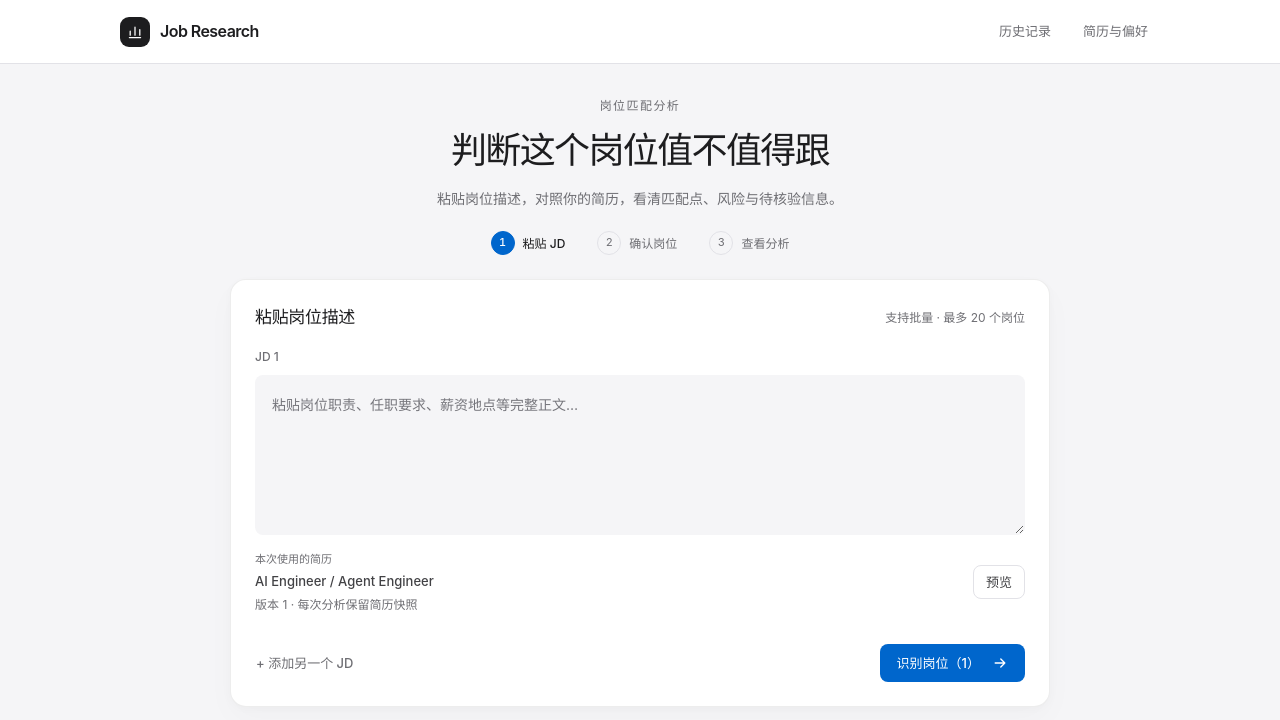
Test: business pages › previews an existing resume as Markdown and edits preview fields on demand
Click the button "预览".
click(999, 582)  # box [973,565,1025,599]
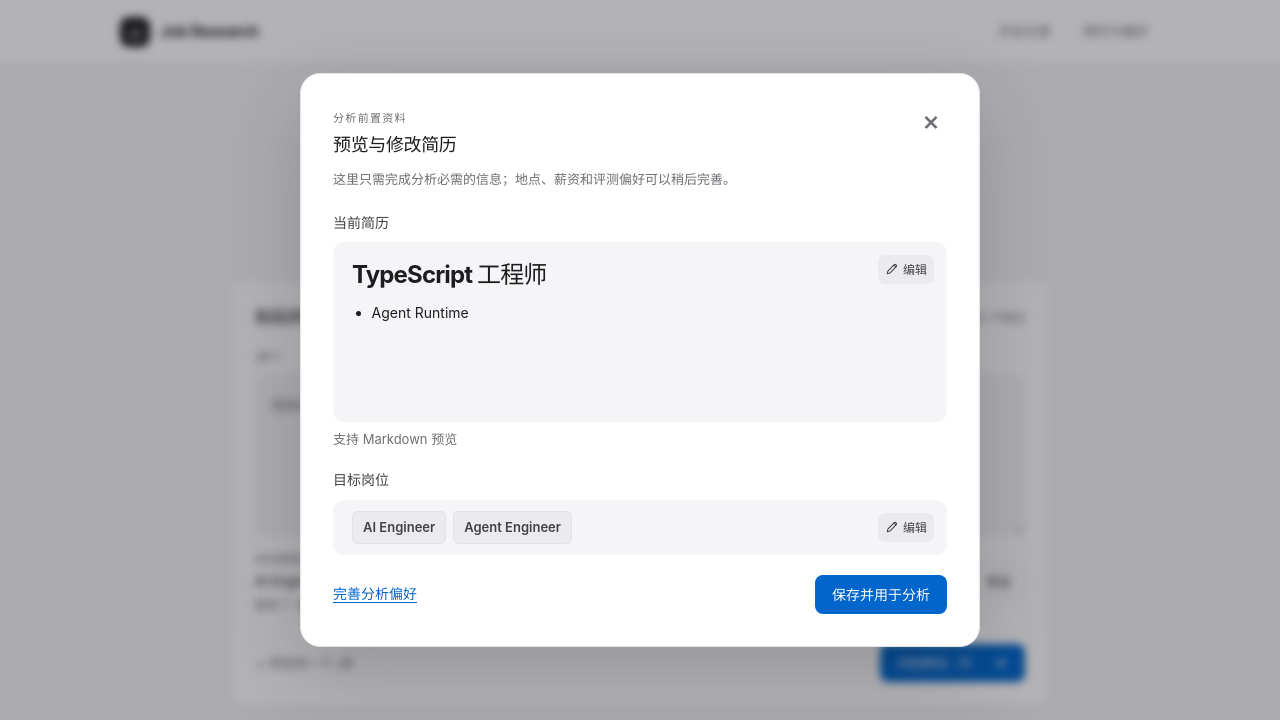
Result: the heading "TypeScript 工程师" is shown at [352,260,546,289]
Result: the list item "Agent Runtime" is shown at [372,304,469,321]
Result: the text "AI Engineer" is shown at [352,511,446,544]
Click the button with aria-label "编辑当前简历".
click(906, 269)  # box [333,242,947,422]
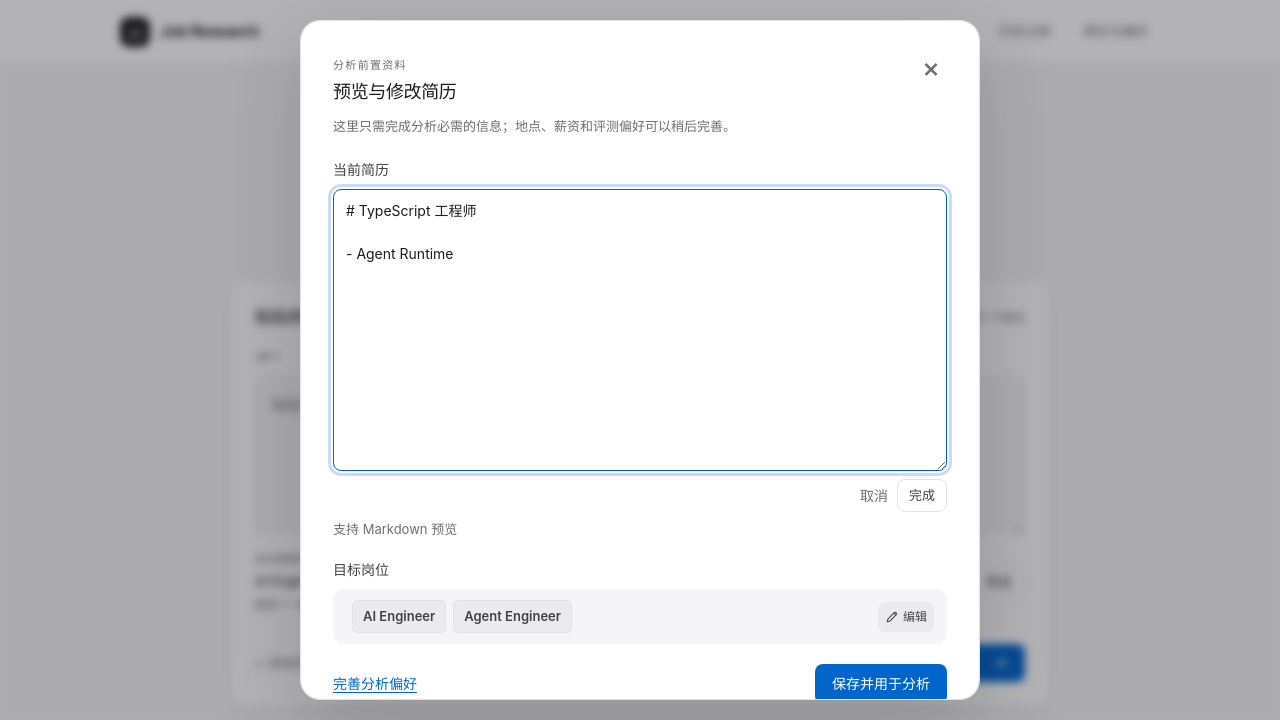
Click the button "取消".
click(874, 495)  # box [859,479,889,512]
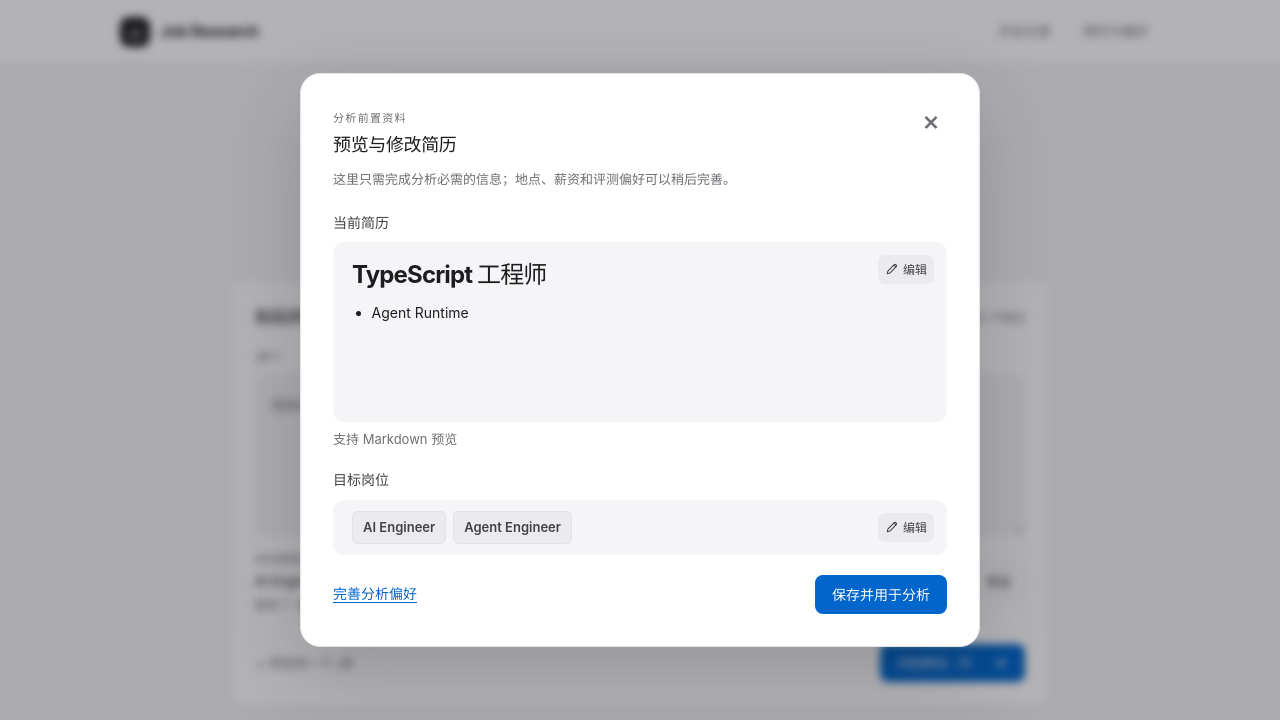
Click the button with aria-label "编辑目标岗位".
click(906, 527)  # box [333,500,947,555]
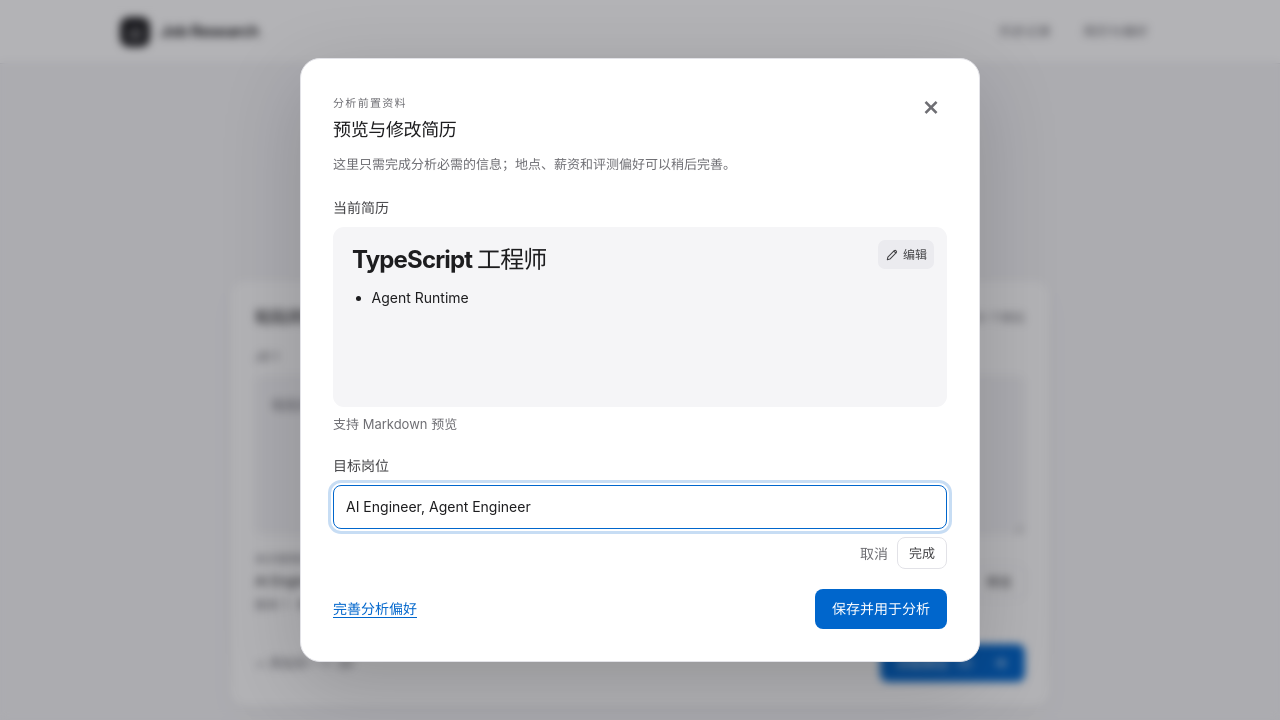
Result: the field named "弹窗目标岗位" holds "AI Engineer, Agent Engineer" at [333,485,947,529]
